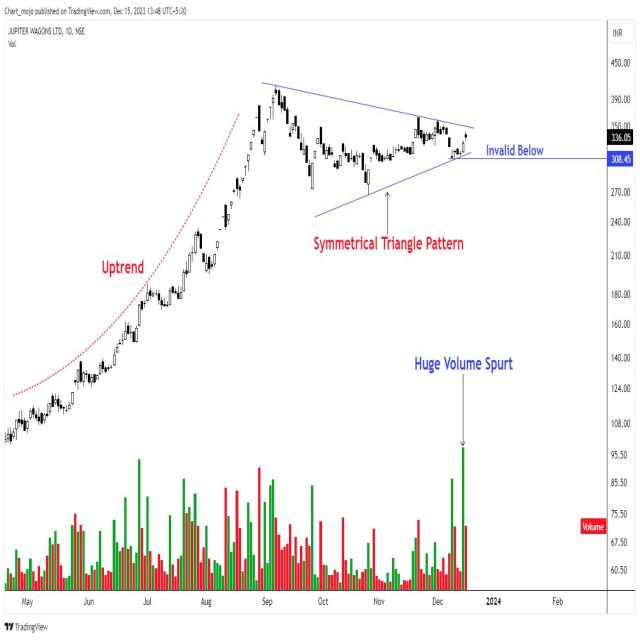Triangle: (257, 86, 512, 235)
